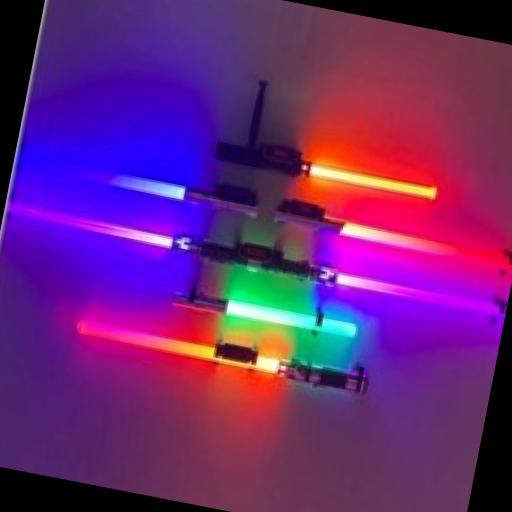lightsaber: (10, 147, 512, 276), (4, 198, 508, 322), (213, 142, 440, 208), (170, 284, 360, 340)
sith saber: (75, 316, 372, 394)
